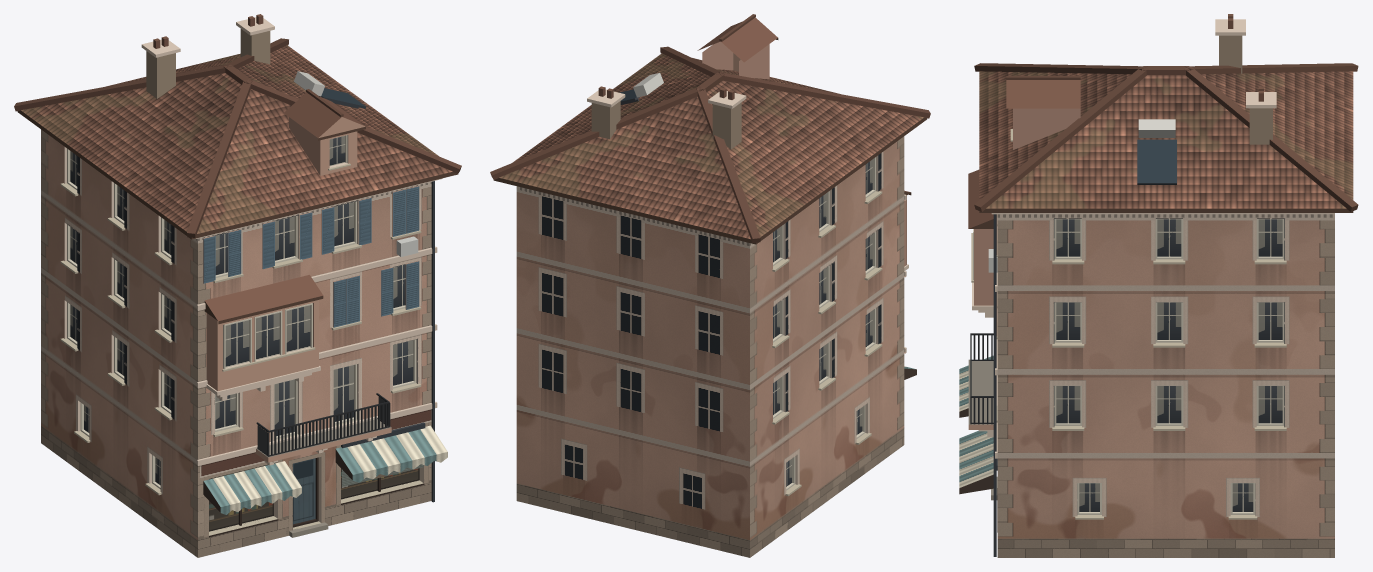
File: hero_b.glb
The picture shows the model from 3 angles, left to right: view 1: azimuth 30°, elevation 25°; view 2: azimuth 150°, elevation 25°; view 3: azimuth 270°, elevation 25°; orthographic projection. The views are drawn at different scales.
Parts seen in each view (by area): view 1: bld_hero_old_core; view 2: bld_hero_old_core; view 3: bld_hero_old_core.
Part boxes in pixels (x1,y1,x2,y2): bld_hero_old_core: [14, 14, 461, 557]; bld_hero_old_core: [490, 14, 930, 557]; bld_hero_old_core: [959, 14, 1358, 557].
Size of the model in its own units: 11.14 by 16.34 by 13.02.
Materials: 1 (1 with a texture image).
